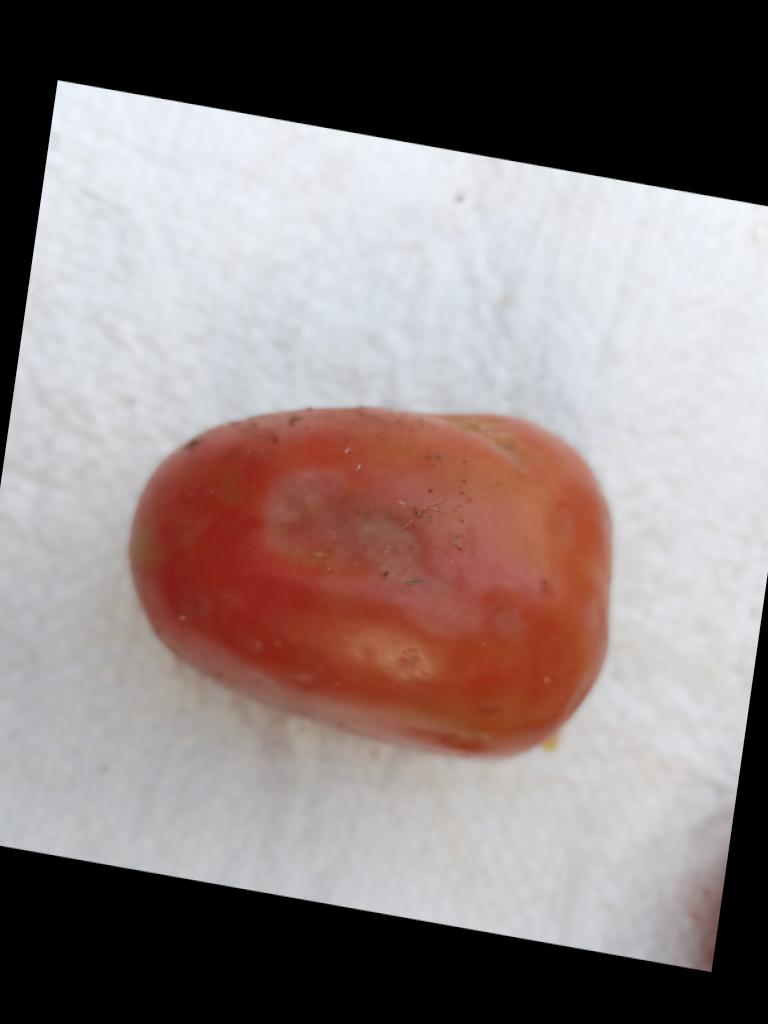bruise_discoloration: (268, 466, 474, 629), (354, 628, 431, 679), (433, 415, 517, 460)
tomato: (129, 408, 609, 758)
